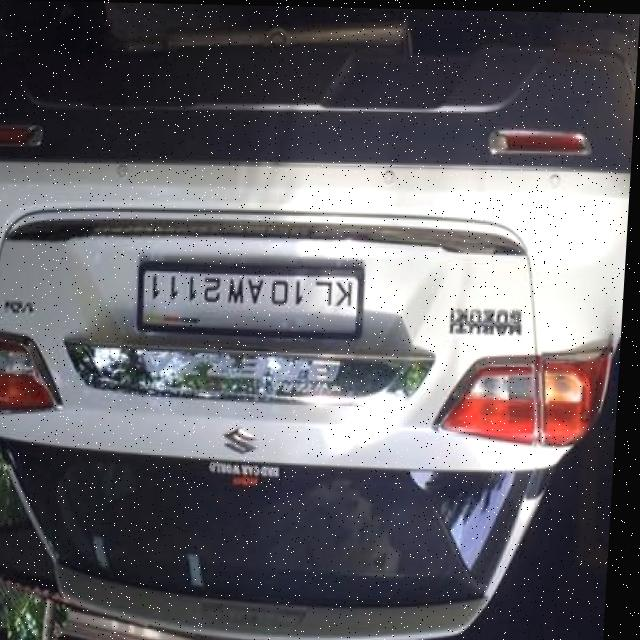plate: (139, 260, 365, 339)
